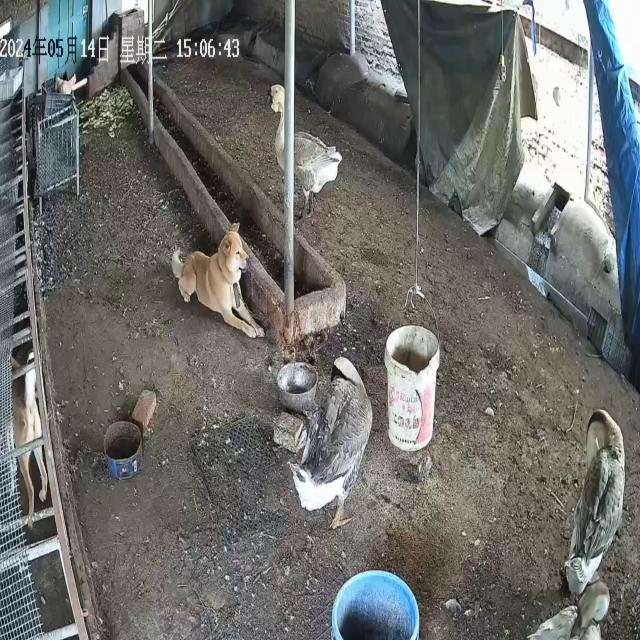dog: (172, 222, 266, 341), (10, 346, 49, 529)
